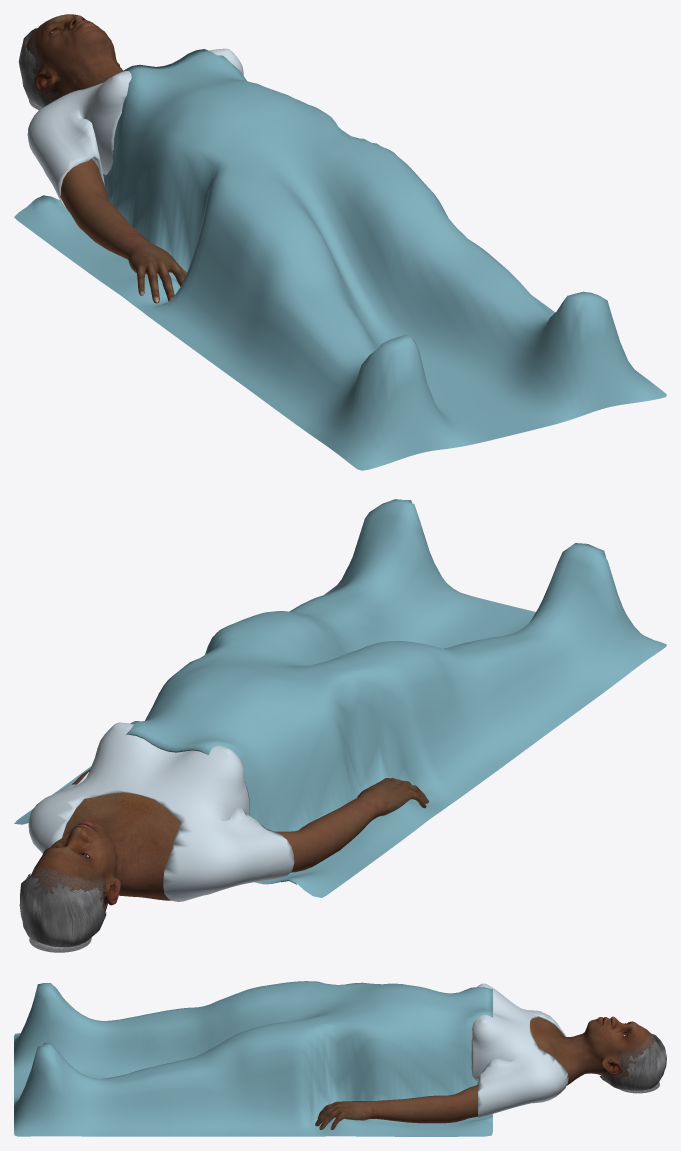
3 views of the same model, one above another, from view 1: azimuth 30°, elevation 25°; view 2: azimuth 150°, elevation 25°; view 3: azimuth 270°, elevation 25° (orthographic). The views are drawn at different scales.
Visible parts, largest first — view 1: sheet, gown, arms, body, hair; view 2: sheet, gown, body, arms, hair; view 3: sheet, gown, body, arms, hair.
Part boxes in pixels (x1=…): sheet: x1=14, y1=49, x2=666, y2=470; gown: x1=27, y1=48, x2=243, y2=207; arms: x1=60, y1=159, x2=186, y2=303; body: x1=26, y1=14, x2=123, y2=103; hair: x1=18, y1=28, x2=51, y2=109; sheet: x1=14, y1=499, x2=666, y2=897; gown: x1=28, y1=722, x2=294, y2=901; body: x1=29, y1=792, x2=181, y2=915; arms: x1=72, y1=769, x2=428, y2=872; hair: x1=19, y1=873, x2=106, y2=952; sheet: x1=14, y1=981, x2=492, y2=1136; gown: x1=471, y1=983, x2=568, y2=1117; body: x1=530, y1=1016, x2=658, y2=1085; arms: x1=315, y1=1085, x2=477, y2=1129; hair: x1=599, y1=1034, x2=666, y2=1093.
Bounding box in the file's own units: 0.6379 × 0.2637 × 1.7.
8 materials, 6 textured.
